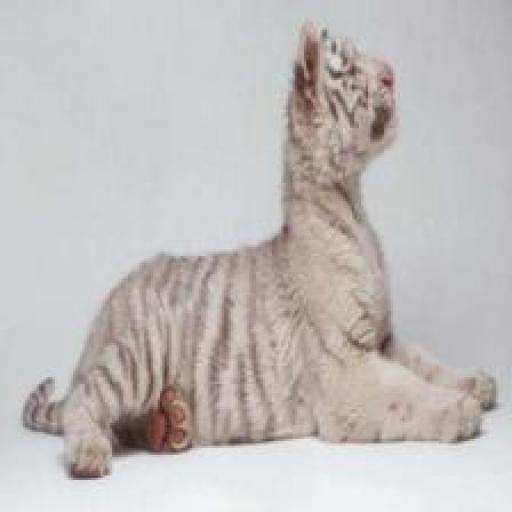Tiger: (23, 21, 503, 482)
